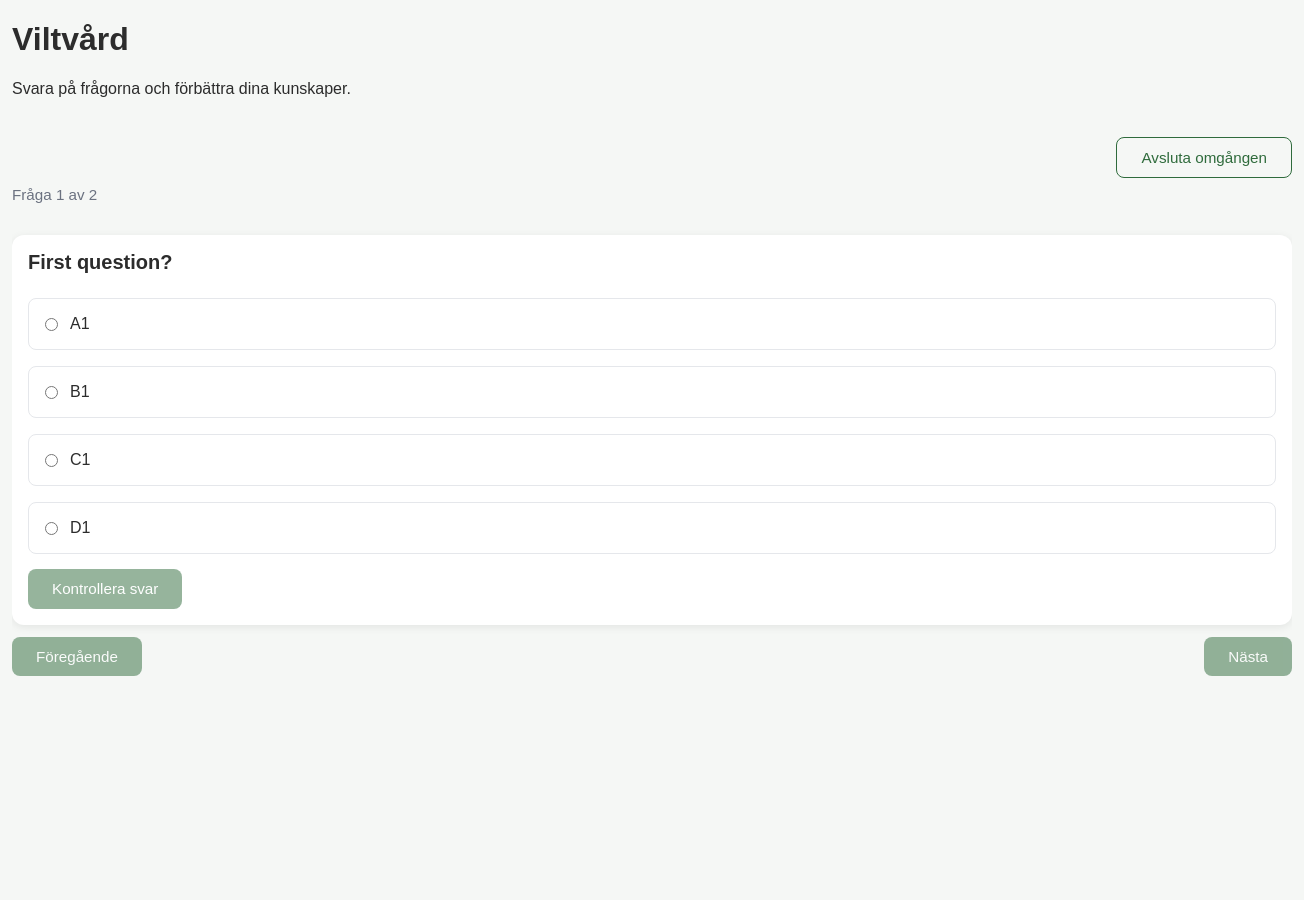
Test: PracticeQuestions › sends the chosen letter to the server and shows the server's feedback
What coordinates should you click on to do the following:
click the radio button labelled "A1"
I would click on:
 (52, 324)
Its box is [45,318,58,331].
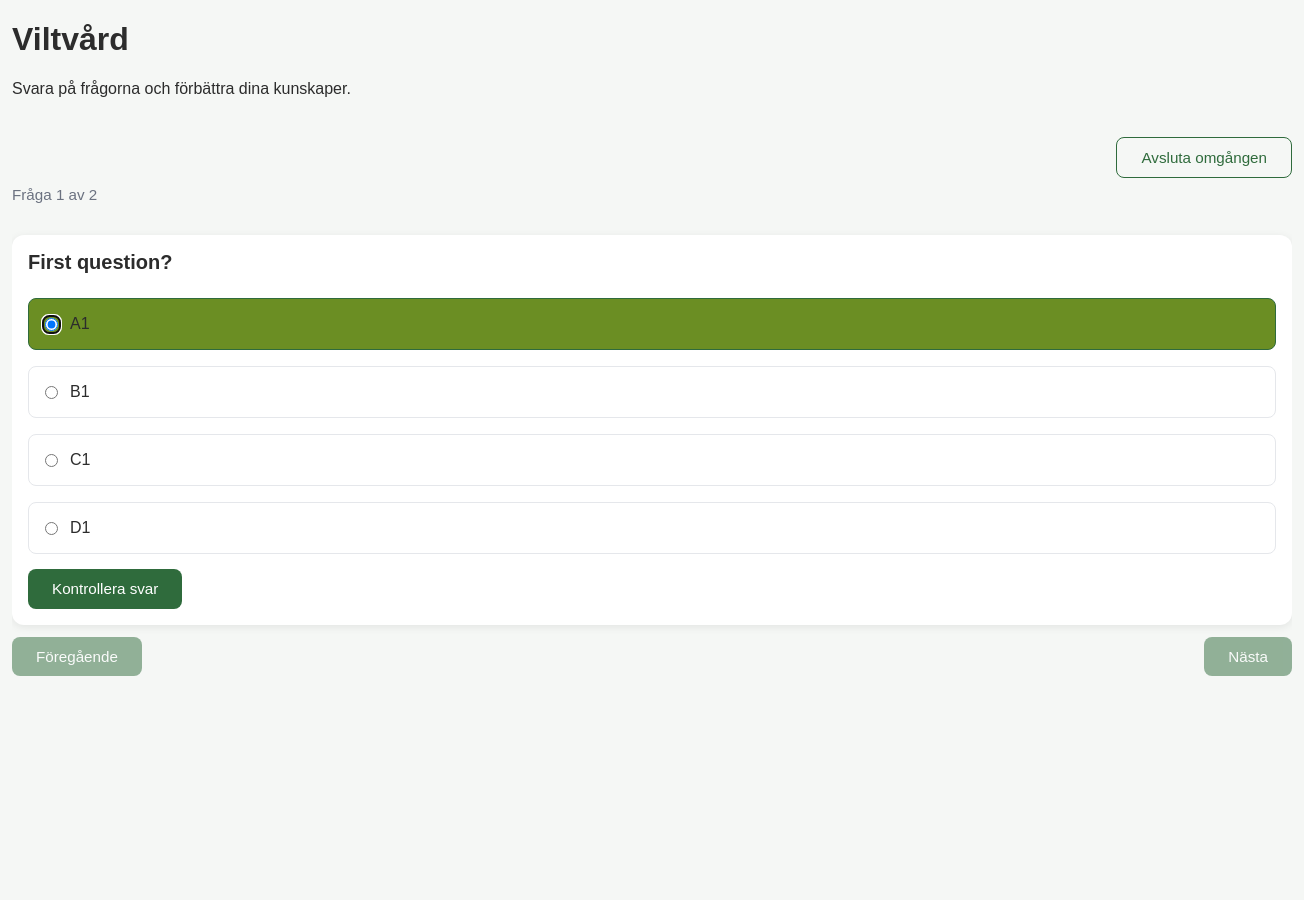
What coordinates should you click on to do the following:
click the button "Kontrollera svar"
I would click on:
 (105, 589)
Its box is [28,569,182,609].
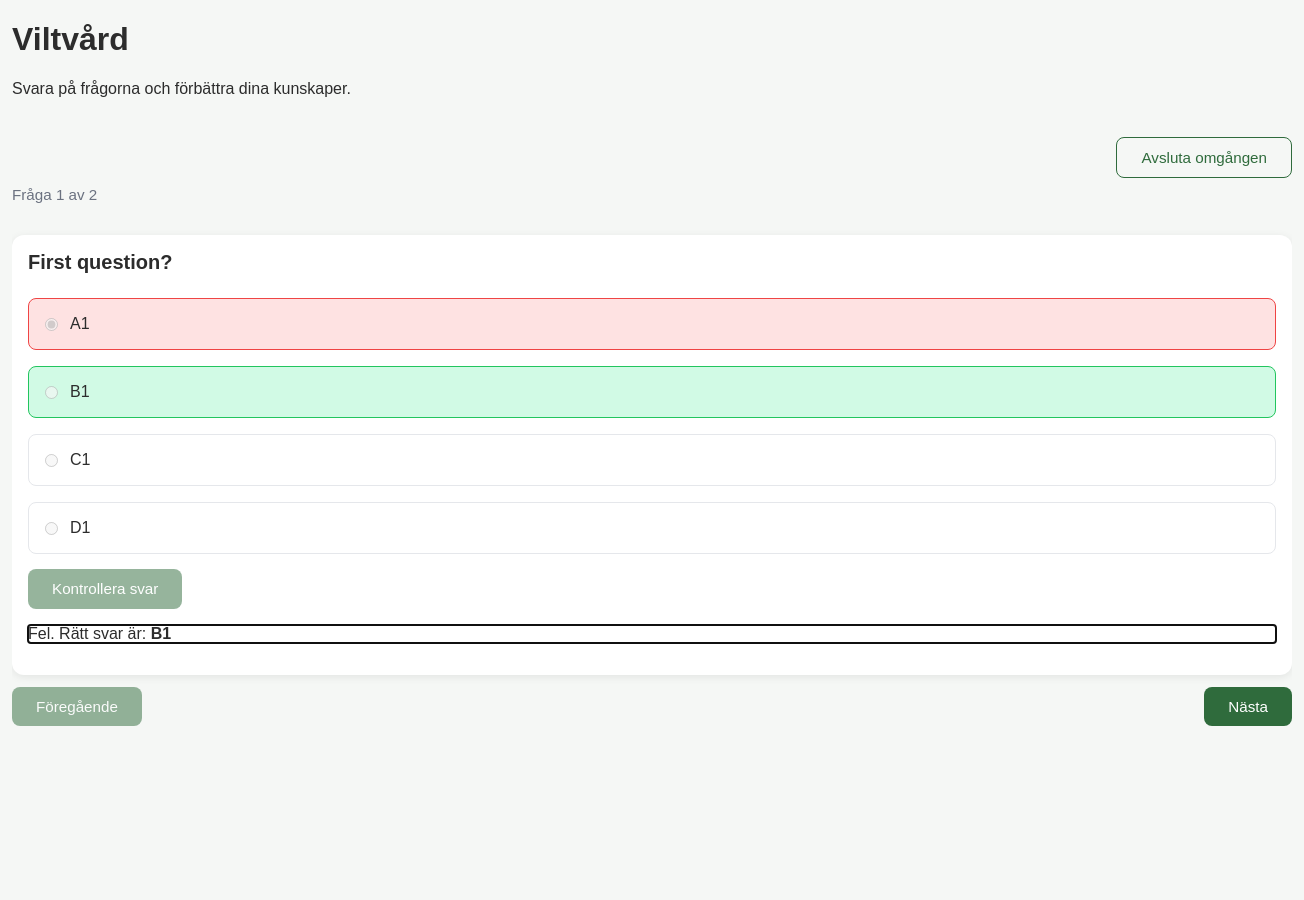
Expected: the text "Fel. Rätt svar är: B1" is shown, [28,625,171,642]
